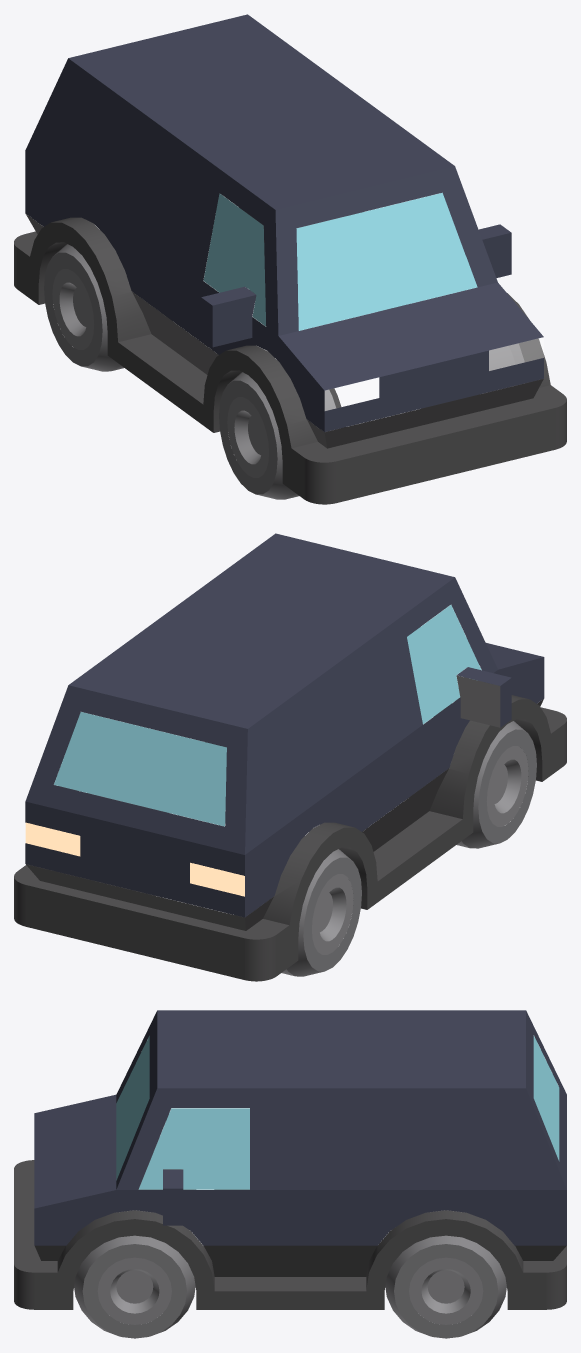
File: van.glb
3 renders of one model, top to bottom at view 1: azimuth 30°, elevation 25°; view 2: azimuth 150°, elevation 25°; view 3: azimuth 270°, elevation 25°, orthographic. The views are drawn at different scales.
Visible parts, largest first — view 1: body, wheel_frontRight, wheel_backRight, wheel_frontLeft; view 2: body, wheel_backRight, wheel_frontRight; view 3: body, wheel_backLeft, wheel_frontLeft.
Boxes of the visible parts, box(x1,y1,x2,y2) form: body: box(14, 14, 566, 504); wheel_frontRight: box(219, 360, 336, 499); wheel_backRight: box(44, 244, 123, 371); wheel_frontLeft: box(427, 343, 524, 407); body: box(14, 533, 566, 981); wheel_backRight: box(241, 849, 361, 976); wheel_frontRight: box(457, 721, 536, 848); body: box(14, 1010, 566, 1309); wheel_backLeft: box(385, 1210, 506, 1338); wheel_frontLeft: box(74, 1210, 195, 1338).
Size of the model in its own units: 1.8 by 1.56 by 3.24.
Materials: 6 (6 with a texture image).
